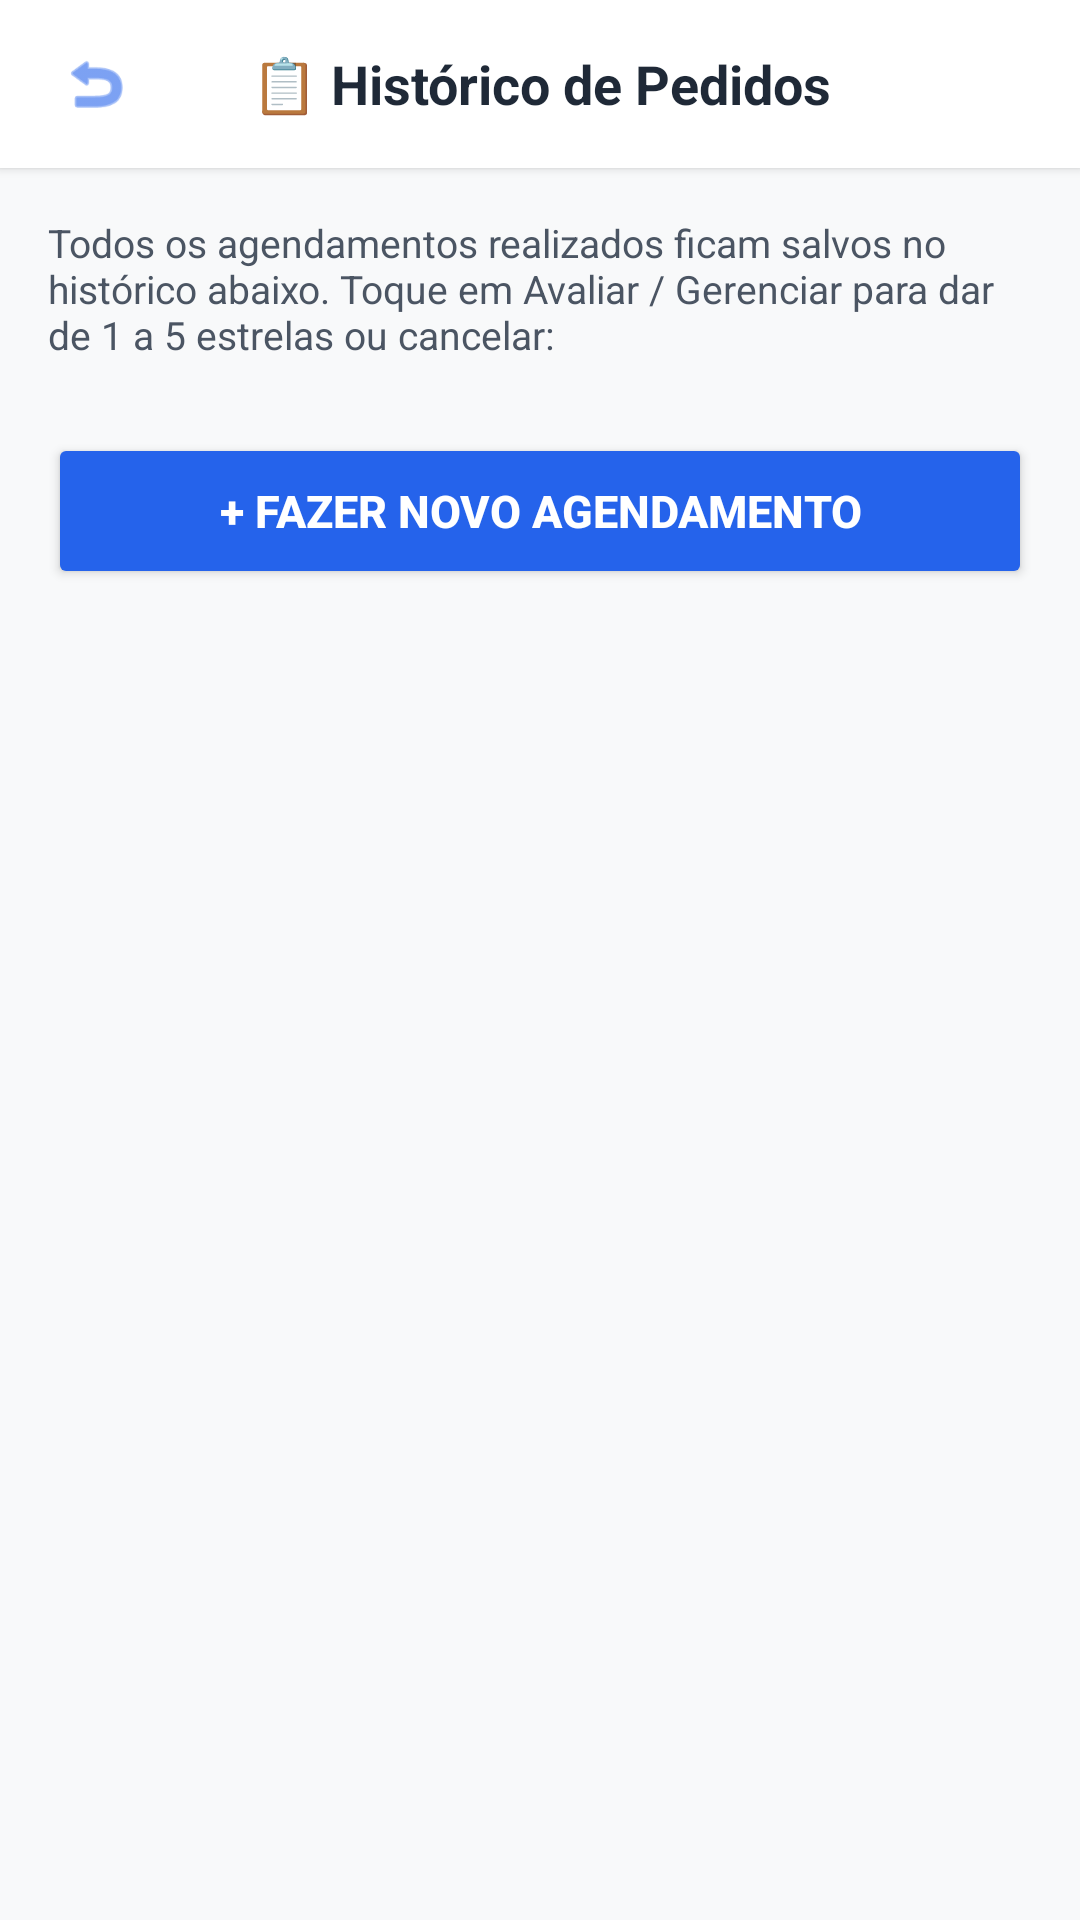

Where to tap for icons on this 1080px x 1920px app screen, as (x=x, y=y):
Voltar: (x=97, y=84)
